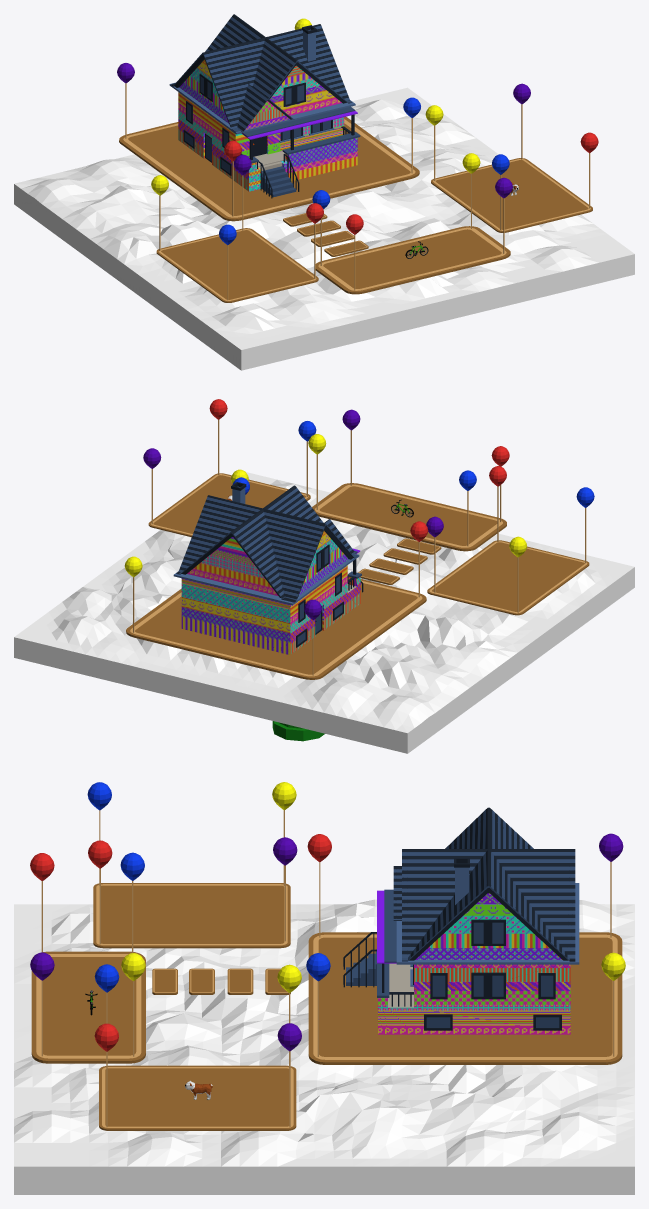
3 views of the same model, one above another, from view 1: azimuth 30°, elevation 25°; view 2: azimuth 150°, elevation 25°; view 3: azimuth 270°, elevation 25° (orthographic). The views are drawn at different scales.
Visible parts, largest first — view 1: Cube.013, Cube.676; view 2: Cube.013, Cube.676, UNDERGROUND_PIPES; view 3: Cube.013, Cube.676.
Boxes of the visible parts, bbox=[...] form: Cube.013: bbox=[14, 18, 634, 370]; Cube.676: bbox=[169, 14, 360, 198]; Cube.013: bbox=[14, 399, 634, 753]; Cube.676: bbox=[173, 482, 363, 654]; UNDERGROUND_PIPES: bbox=[272, 721, 324, 741]; Cube.013: bbox=[14, 782, 634, 1194]; Cube.676: bbox=[343, 807, 579, 1034].
Size of the model in its own units: 4000 by 2271 by 4000.
33 materials, 5 textured.
